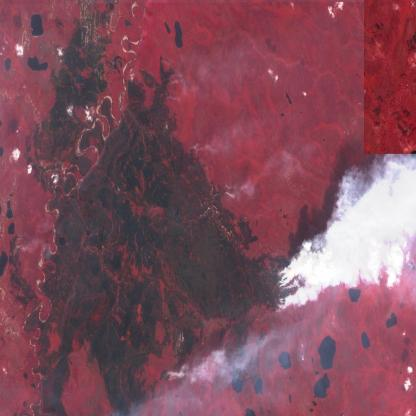fire: (269, 249, 319, 322), (155, 50, 180, 106), (10, 228, 28, 268), (161, 364, 183, 393), (218, 175, 236, 207)
